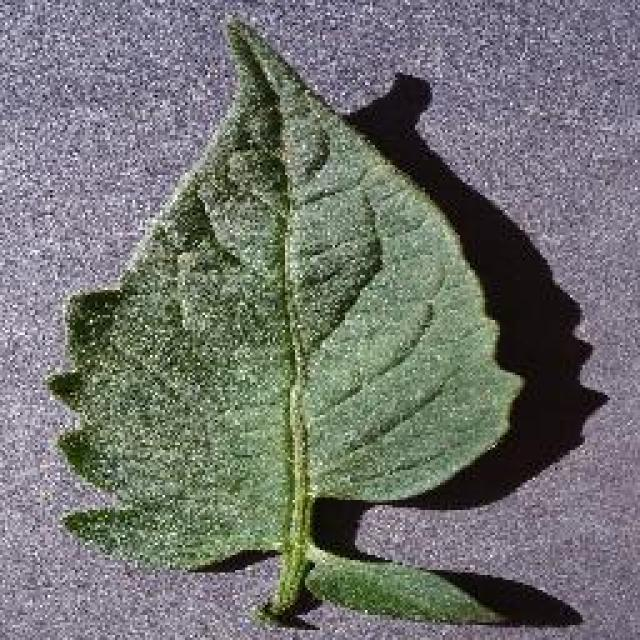healthy: (41, 22, 523, 627)
